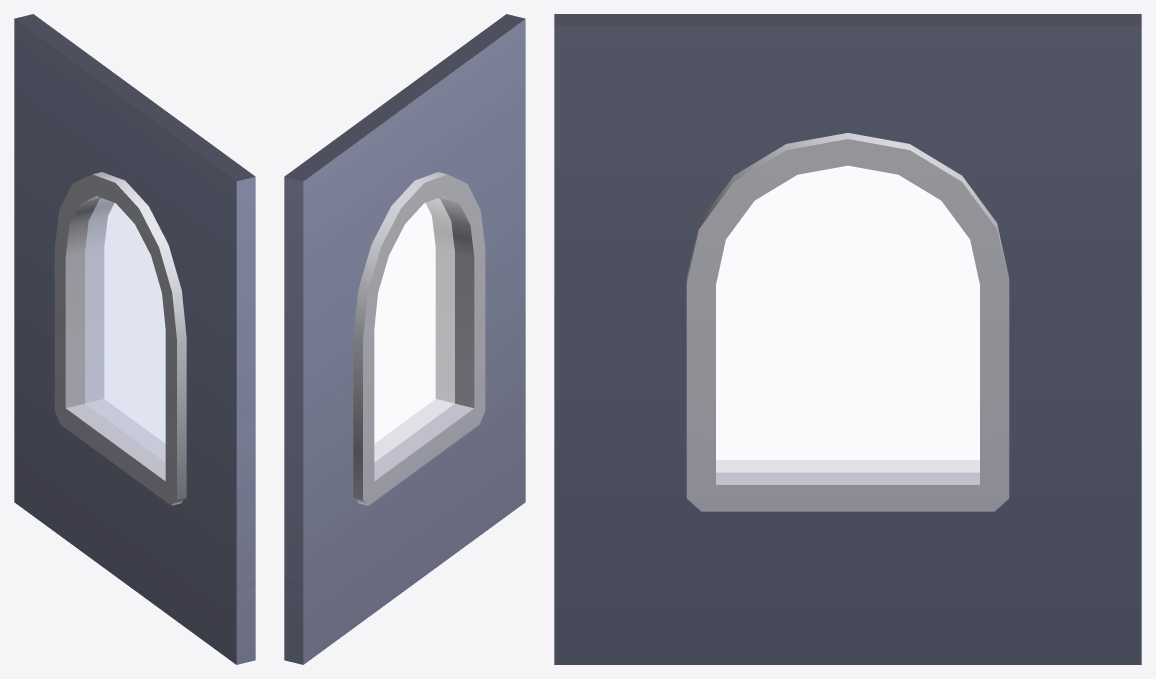
Rendered from kenney-building-wall-window-round.glb.
3 views of the same model, side by side, from view 1: azimuth 30°, elevation 25°; view 2: azimuth 150°, elevation 25°; view 3: azimuth 270°, elevation 25° (orthographic). The views are drawn at different scales.
Parts seen in each view (by area): view 1: wall-window-round, (%ignore); view 2: wall-window-round, (%ignore); view 3: wall-window-round, (%ignore).
Part boxes in pixels (left/top/right/bottom): wall-window-round: left=14, top=14, right=255, bottom=664; (%ignore): left=85, top=198, right=165, bottom=462; wall-window-round: left=284, top=14, right=525, bottom=664; (%ignore): left=374, top=198, right=454, bottom=462; wall-window-round: left=554, top=14, right=1141, bottom=664; (%ignore): left=716, top=165, right=979, bottom=472.
Bounding box in the file's own units: 0.2001 × 2.4 × 2.
2 materials, 1 textured.
